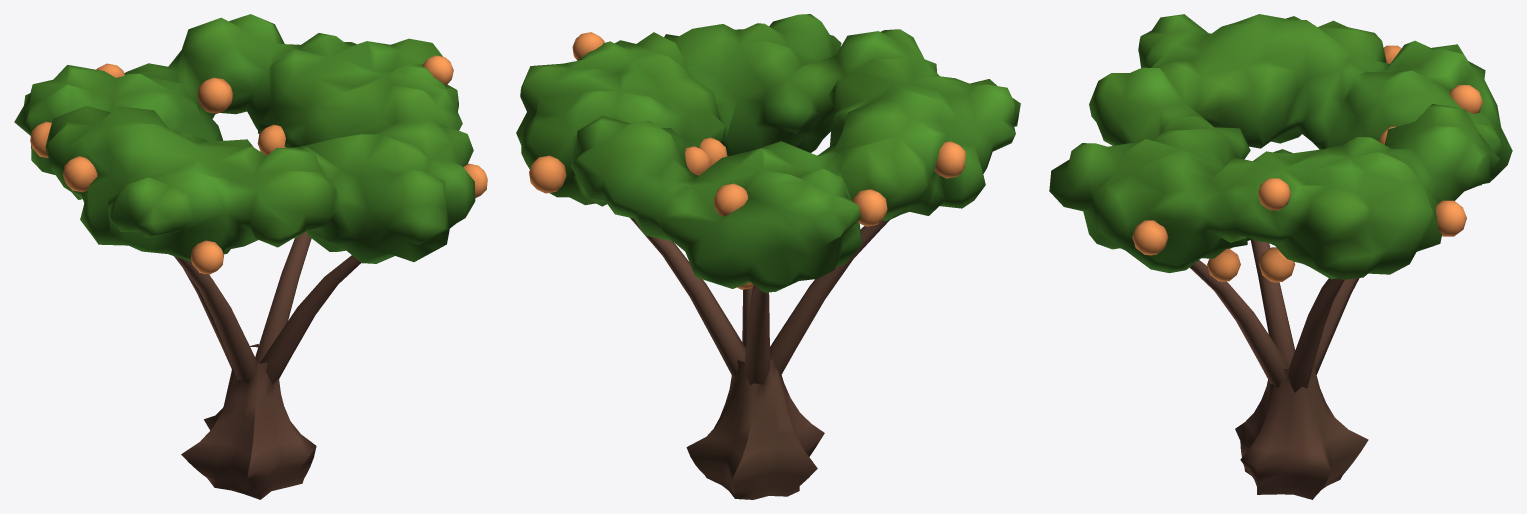
File: tree-peach.glb
The picture shows the model from 3 angles, left to right: view 1: azimuth 30°, elevation 25°; view 2: azimuth 150°, elevation 25°; view 3: azimuth 270°, elevation 25°; orthographic projection. The views are drawn at different scales.
Visible parts, largest first — view 1: Peach tree Leaves, Peach tree Bark, Fruit; view 2: Peach tree Leaves, Peach tree Bark, Fruit; view 3: Peach tree Leaves, Peach tree Bark, Fruit.
Part boxes in pixels (x1,y1,x2,y2): Peach tree Leaves: (14, 14, 475, 263); Peach tree Bark: (174, 231, 360, 499); Fruit: (30, 55, 487, 274); Peach tree Leaves: (516, 14, 1020, 292); Peach tree Bark: (630, 217, 889, 499); Fruit: (529, 32, 965, 289); Peach tree Leaves: (1049, 14, 1512, 279); Peach tree Bark: (1189, 239, 1368, 499); Fruit: (1132, 45, 1482, 282).
Size of the model in its own units: 4 by 3.73 by 3.94.
